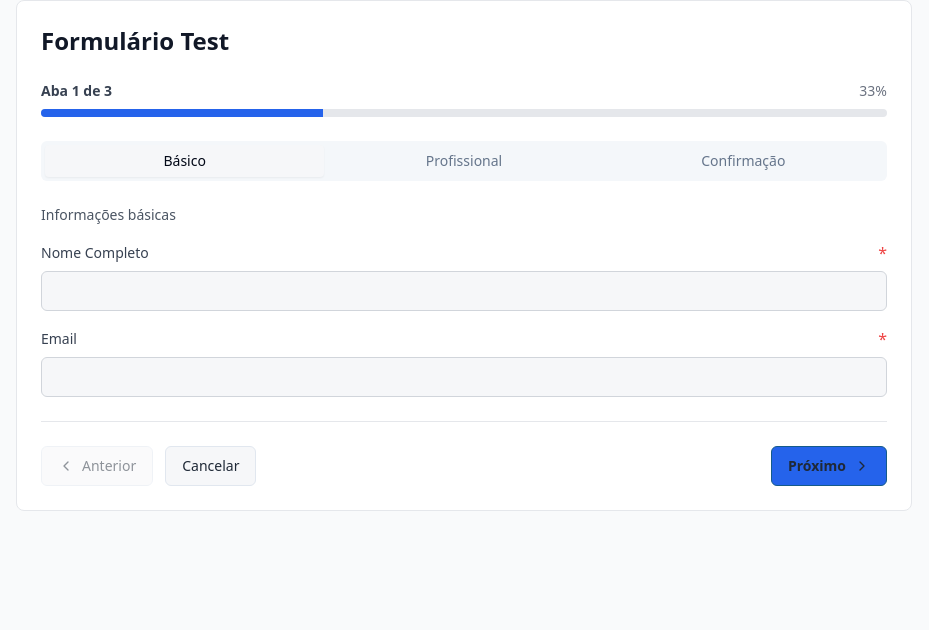
Test: TabbedForm - Integração › navega entre abas com clicks
In the field labelled "Nome Completo": point(464, 291) [41,271,887,311], type "João Silva"
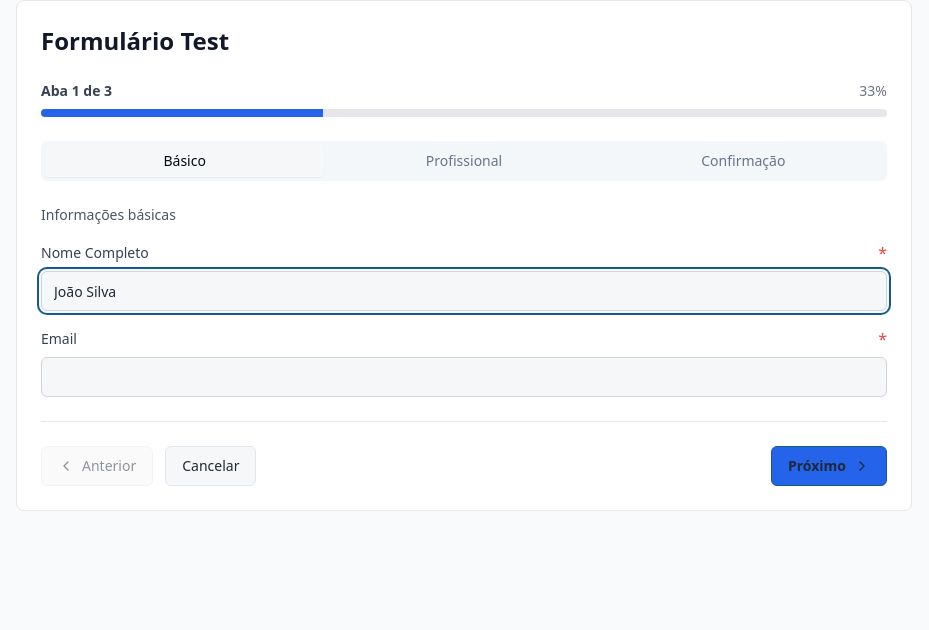
In the field labelled "Email": point(464, 377) [41,357,887,397], type "joao@email.com"
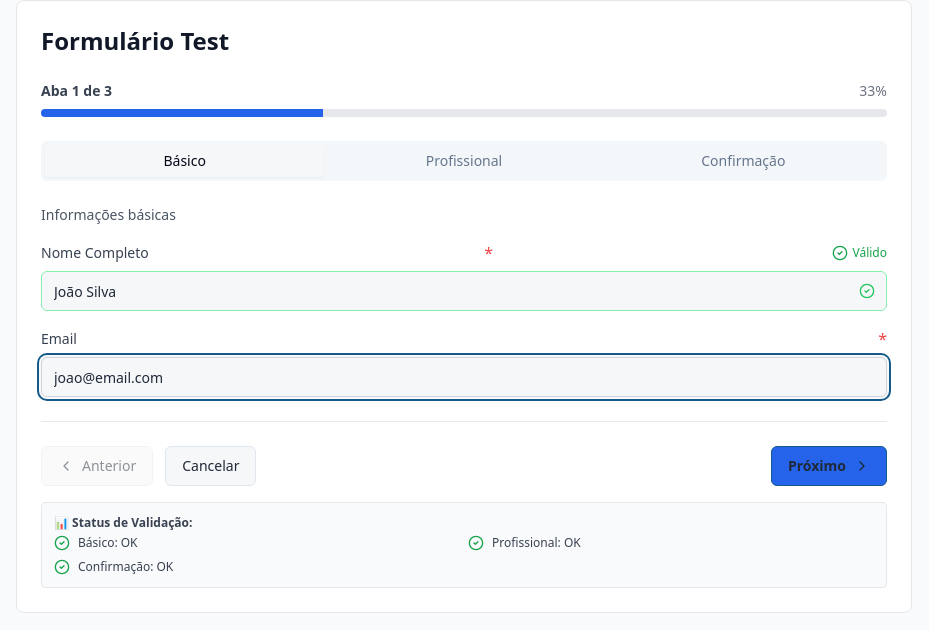
Note: Clicar em "Próximo"
Click the button "Próximo": point(829, 466) [771,446,887,486]
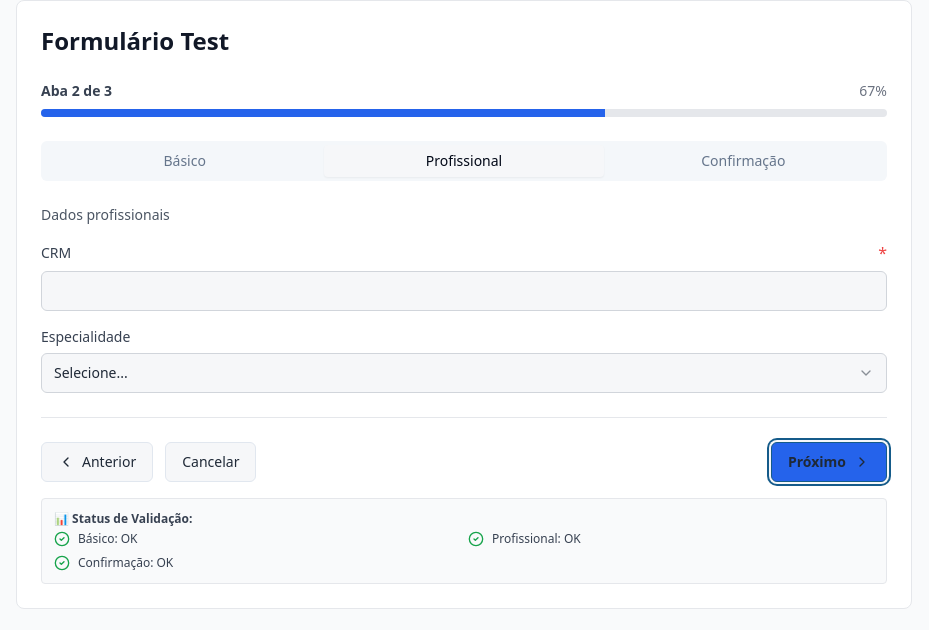
Expected: the field labelled "CRM" is shown, [41,271,887,311]
